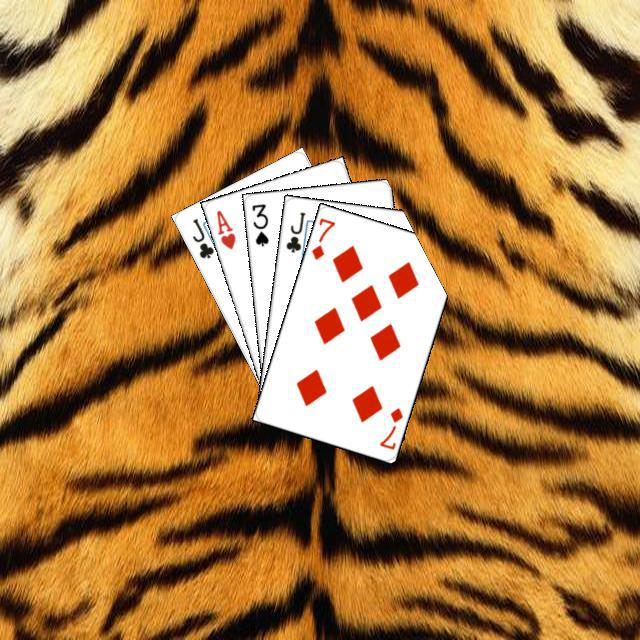3s: (247, 199, 270, 248)
7d: (306, 213, 337, 262), (374, 403, 405, 451)
Ah: (211, 205, 237, 251)
Jc: (187, 213, 216, 260), (281, 207, 307, 254)
